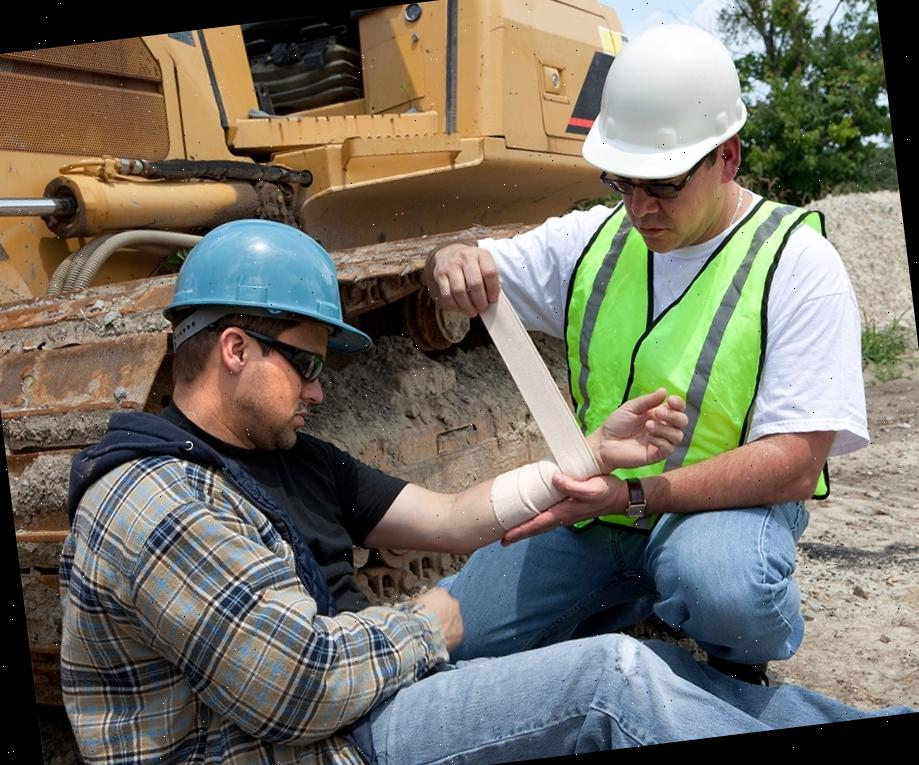helmet: (151, 206, 382, 378), (566, 12, 758, 190)
no_wear: (35, 423, 405, 765)
wear: (548, 215, 854, 516)
